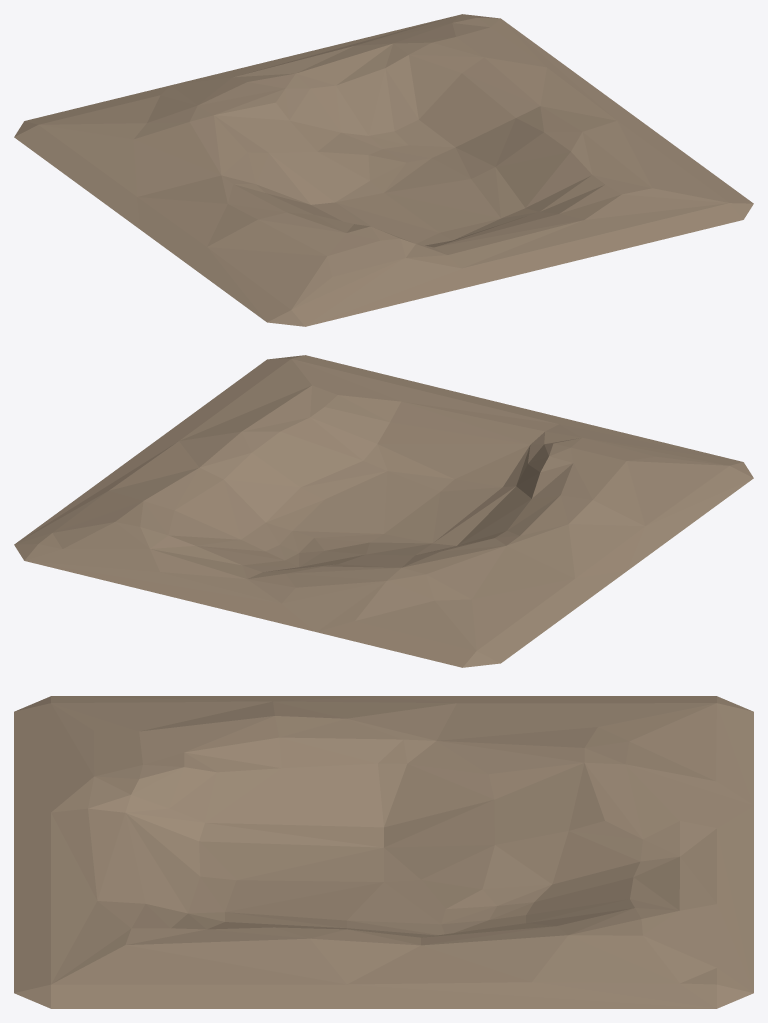
The model's file is SM_Env_Ground_Pit_01.FBX.
The picture shows the model from 3 angles, top to bottom: view 1: azimuth 30°, elevation 25°; view 2: azimuth 150°, elevation 25°; view 3: azimuth 270°, elevation 25°; orthographic projection. The views are drawn at different scales.
Visible parts, largest first — view 1: SM_Env_Ground_Pit_01; view 2: SM_Env_Ground_Pit_01; view 3: SM_Env_Ground_Pit_01.
Part boxes in pixels (<box>): SM_Env_Ground_Pit_01: <box>14,14,753,326</box>; SM_Env_Ground_Pit_01: <box>14,355,753,667</box>; SM_Env_Ground_Pit_01: <box>14,696,753,1008</box>.
Size of what is drawn, in the model's own units: 1534 by 1534 by 135.
